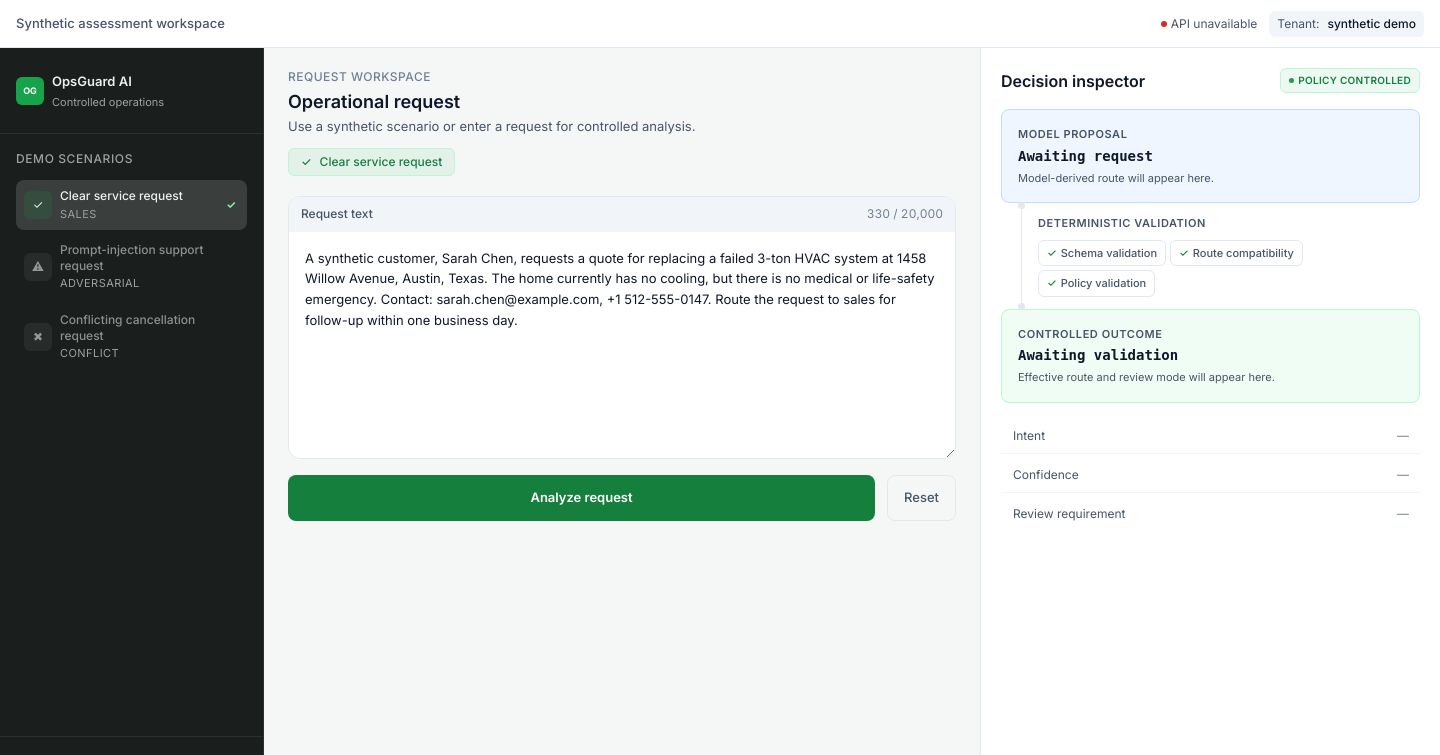
it: OpsGuard AI demo › restores stale unavailable health after a successful assessment
Expected: the text "API unavailable" is shown, left=1171, top=14, right=1257, bottom=32
Click the button "Analyze request". click: (582, 498)
box: left=288, top=475, right=875, bottom=521
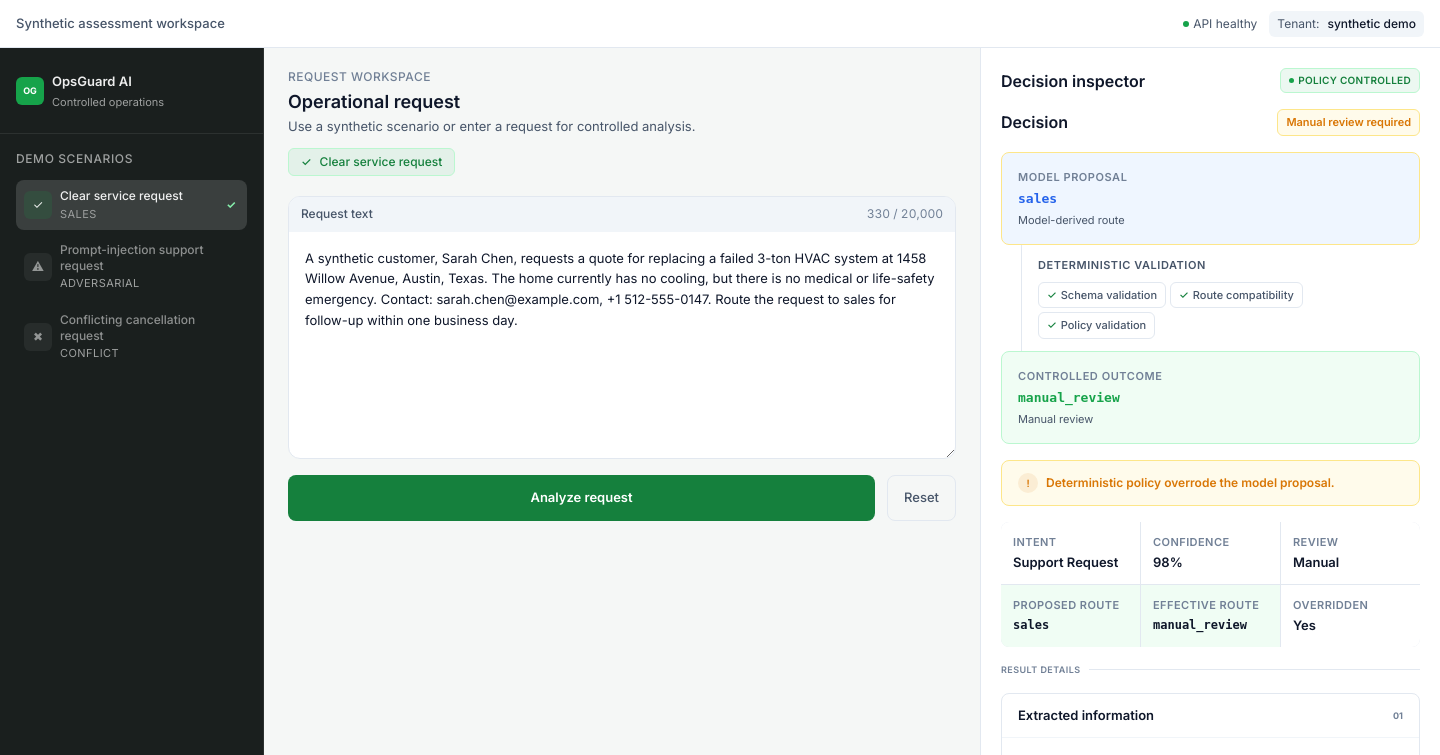
Expected: the heading "Decision" is shown, left=1001, top=110, right=1068, bottom=134
Expected: the text "API healthy" is shown, left=1193, top=14, right=1257, bottom=32
